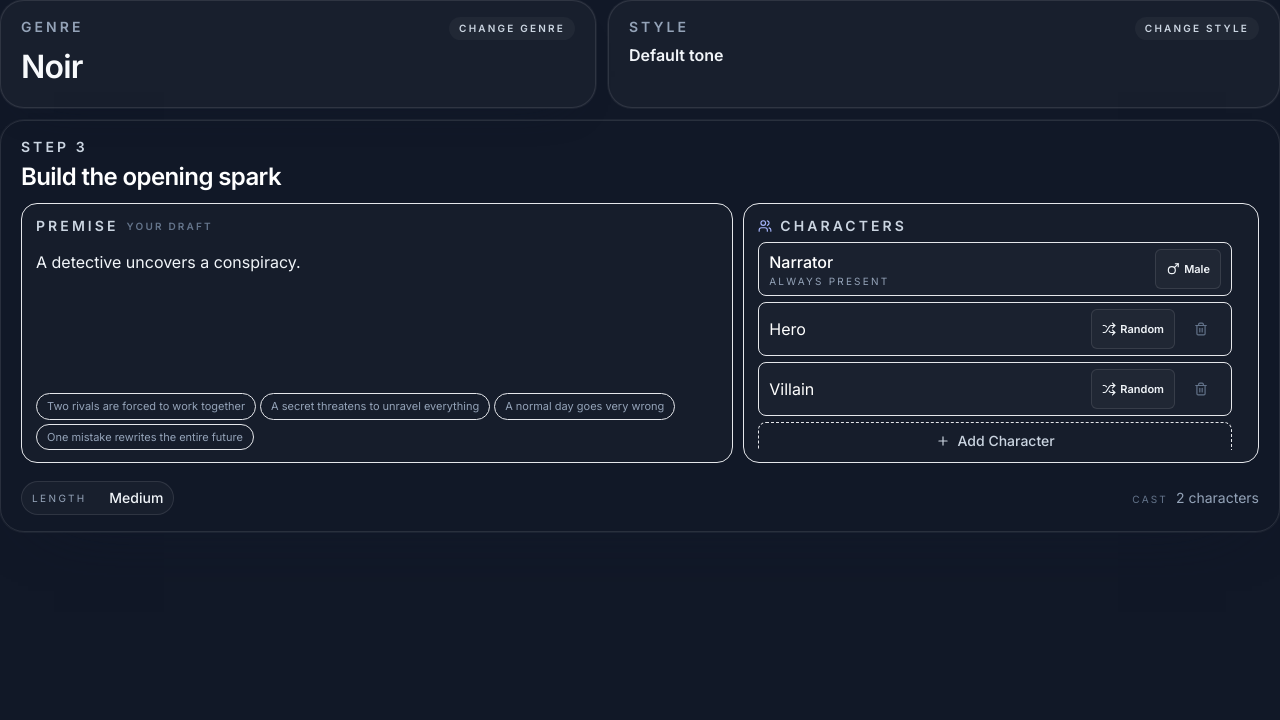
Test case: SetupForm submit validation › cycles narrator preference male -> female -> random
This screenshot has width=1280, height=720.
What coordinates should you click on to do the following:
click the button with test id "setup-narrator-preference"
I would click on:
 (1188, 269)
Its box is x1=1155 y1=249 x2=1221 y2=289.
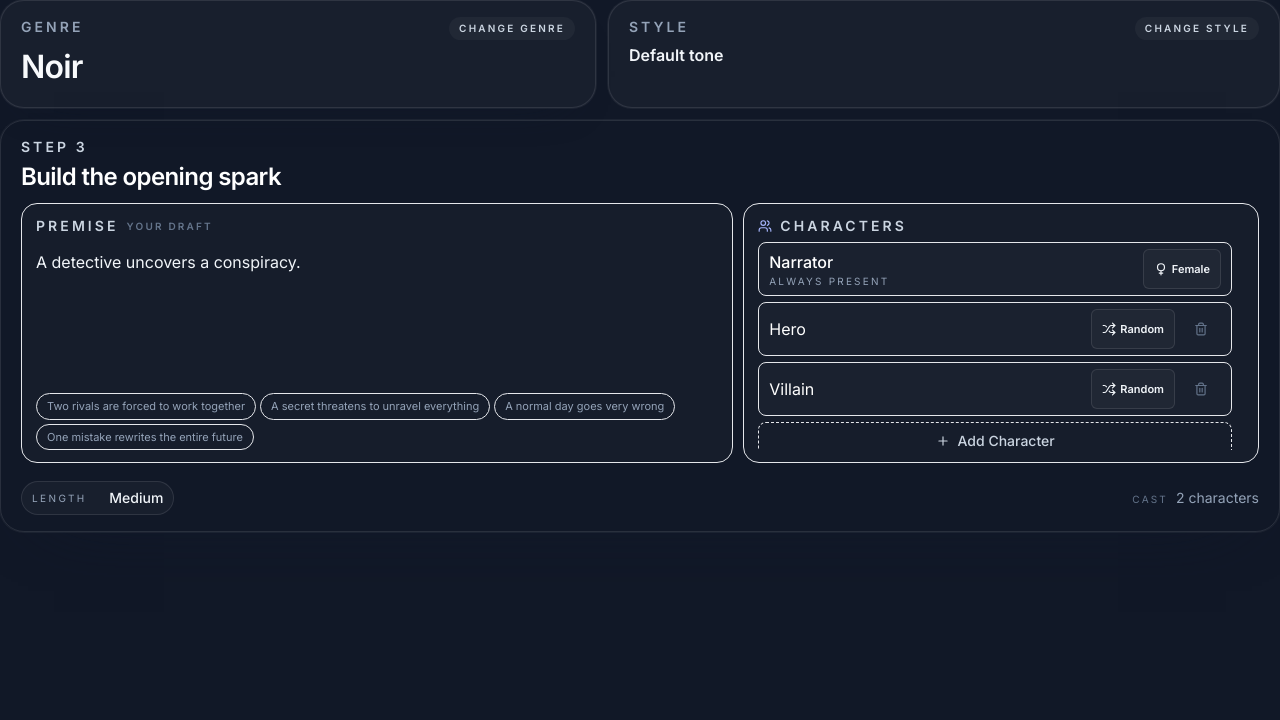
Expected: the button with test id "setup-narrator-preference" reads "Female"
What coordinates should you click on to do the following:
click the button with test id "setup-narrator-preference"
I would click on:
 (1182, 269)
Its box is x1=1143 y1=249 x2=1221 y2=289.
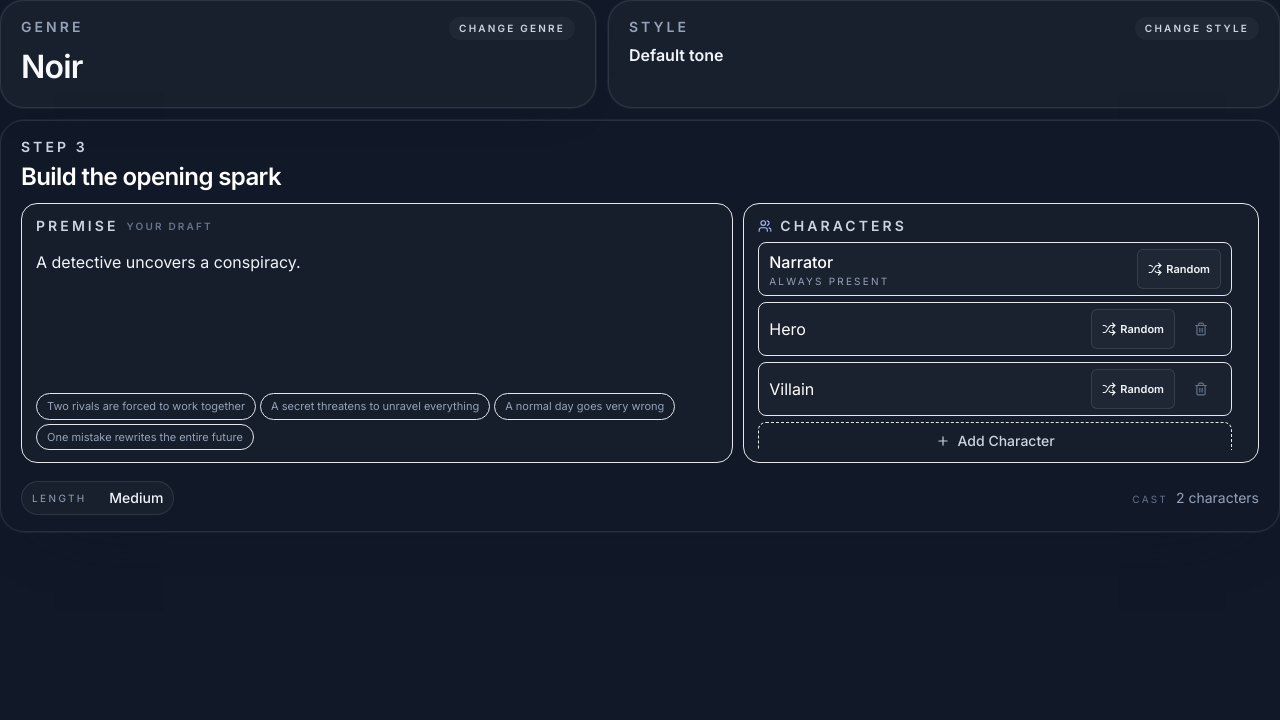
Expected: the button with test id "setup-narrator-preference" reads "Random", x1=1137 y1=249 x2=1221 y2=289
